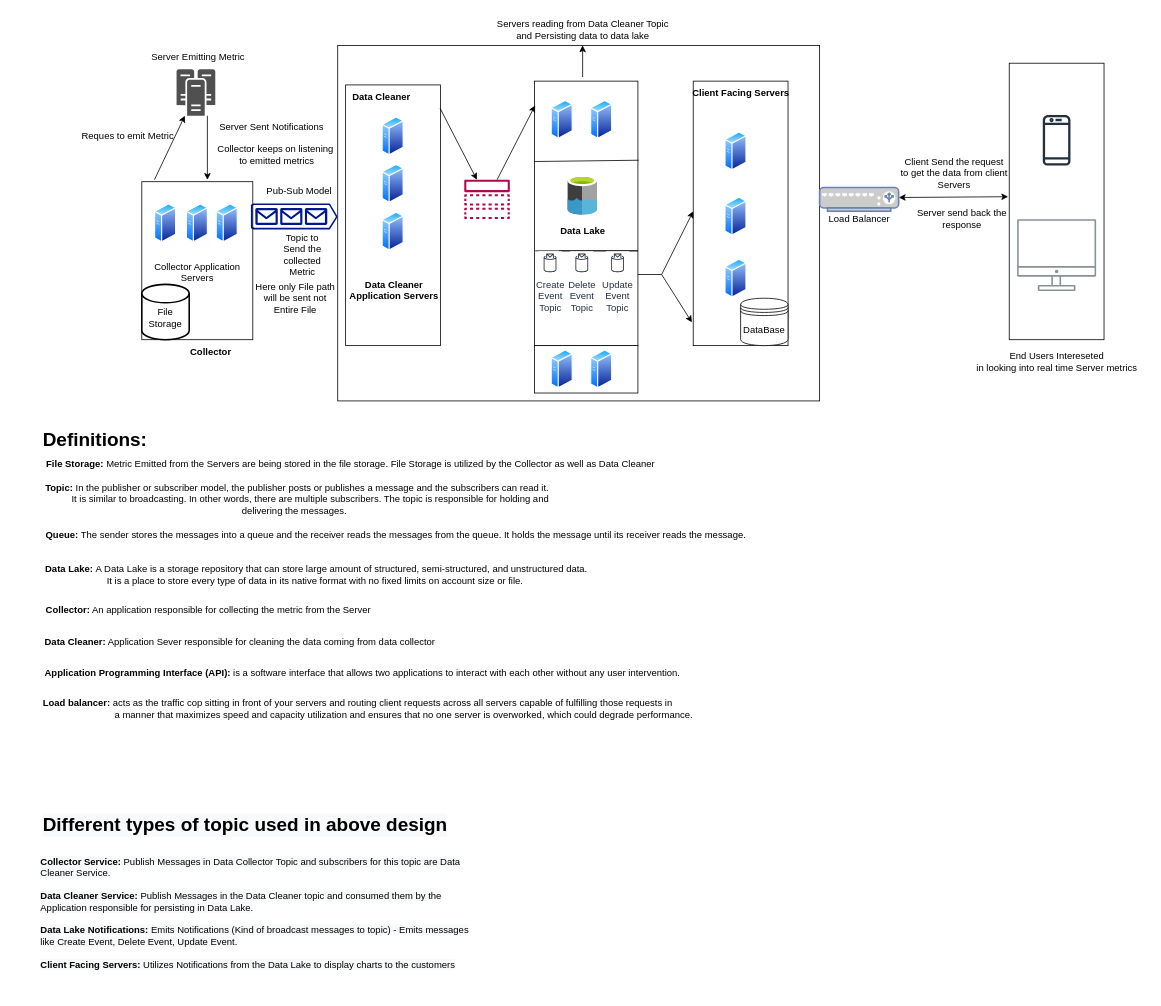
Some shapes in this 1161 by 1006 pixel diagram are drawn without their labels. Here are the shapes that lost their labels. From the top down, the centre of each, then its label:
At pixel 1056 140: "Mobile client".
At pixel 487 199: "Data After Cleaning sent to DATA Cleaning Topic".
At pixel 1056 255: "desktop".
